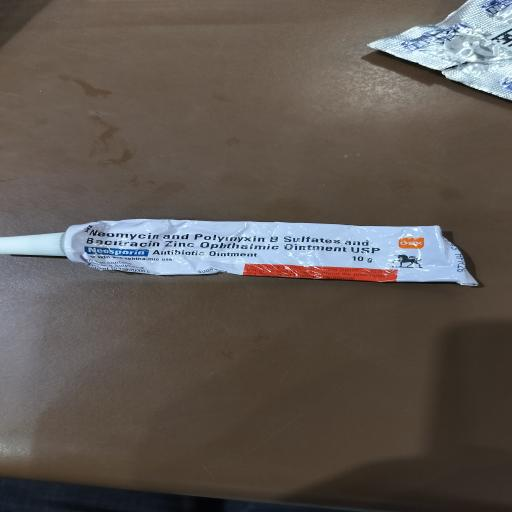neomycin: (88, 229, 390, 253), (88, 229, 163, 240)
ointment: (27, 222, 474, 281), (210, 251, 260, 258)
